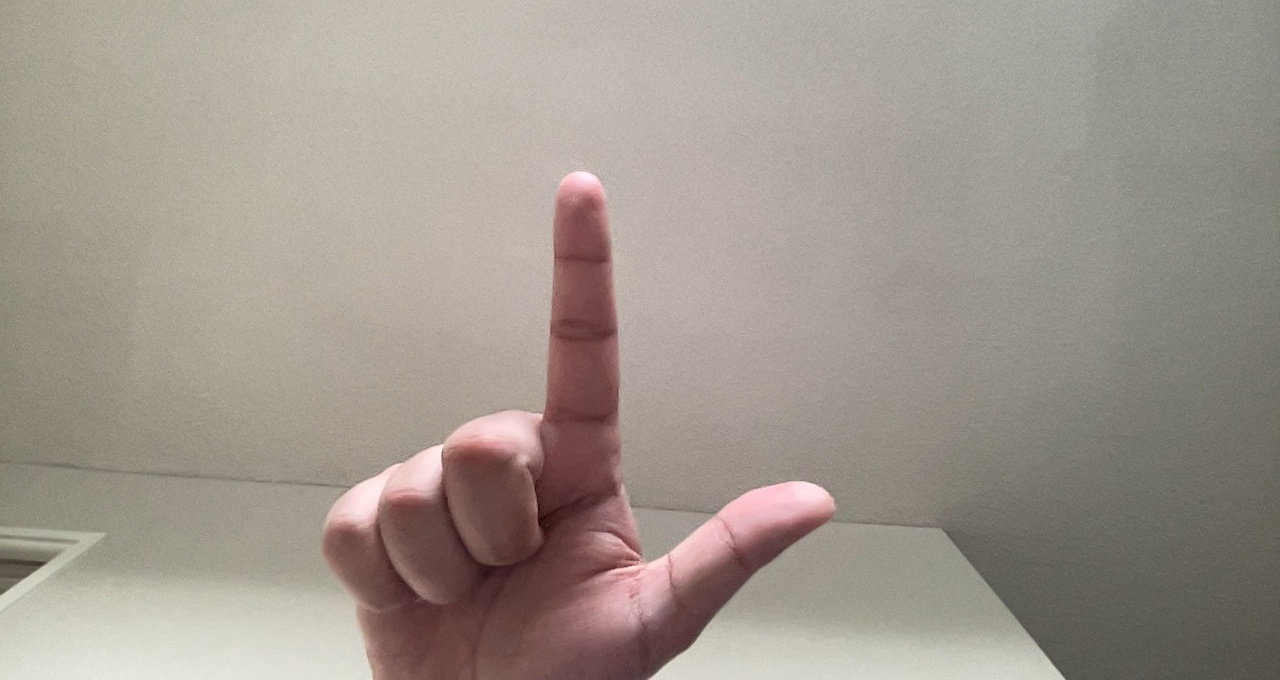L: (296, 157, 840, 675)
